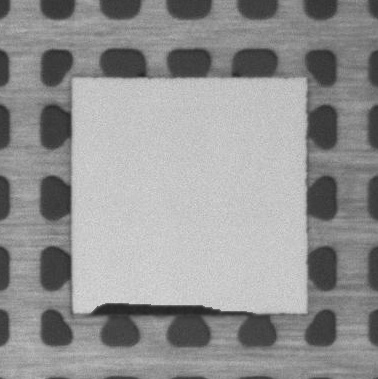DIE_BROKEN: (86, 301, 255, 321)
